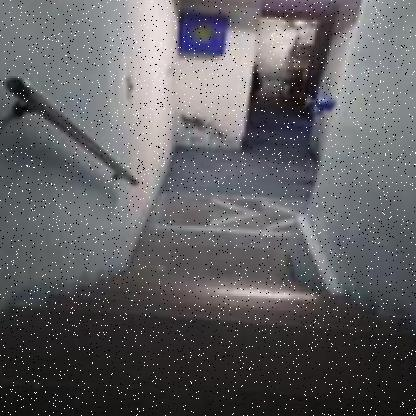stair_down: (76, 241, 333, 365)
